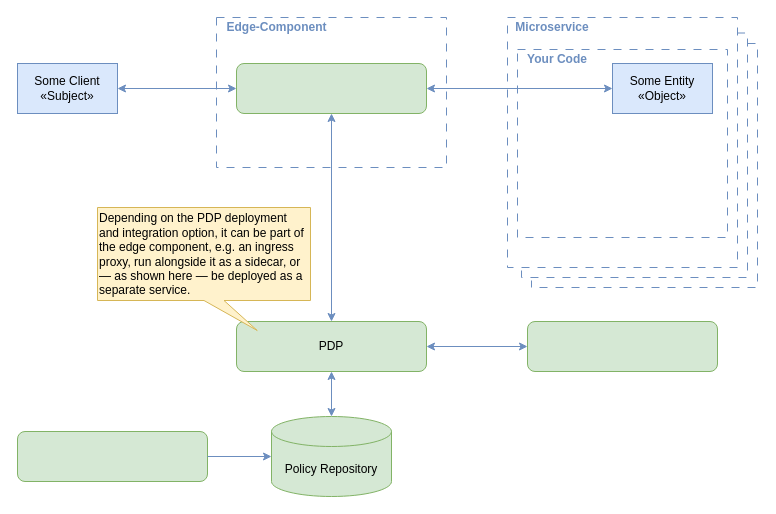
This 776x514 diagram has some shape labels left out. Each missing label, with the centre of its shape:
"Other Services «PIP»" belongs at pixel 622 346.
"PAP" belongs at pixel 112 456.
"PEP" belongs at pixel 331 88.
